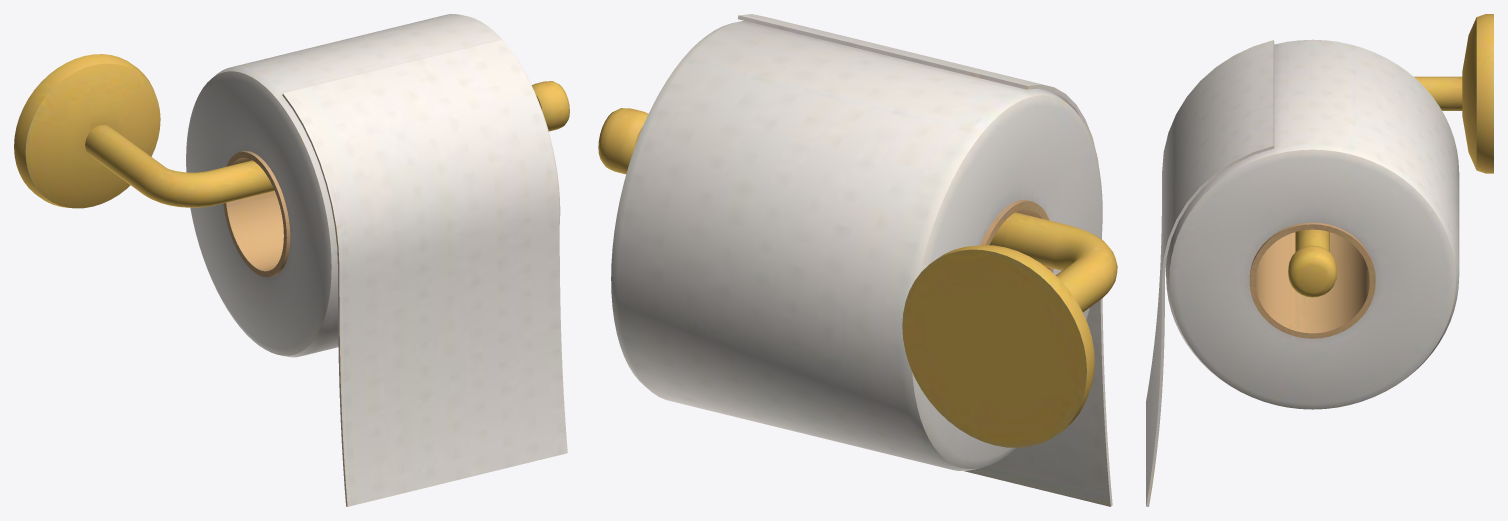
File: toilet-paper-holder.glb
The picture shows the model from 3 angles, left to right: view 1: azimuth 30°, elevation 25°; view 2: azimuth 150°, elevation 25°; view 3: azimuth 270°, elevation 25°; orthographic projection. The views are drawn at different scales.
Visible parts, largest first — view 1: toilet-paper-holder_body; view 2: toilet-paper-holder_body; view 3: toilet-paper-holder_body.
Boxes of the visible parts, x1,y1,x2,y2 form: toilet-paper-holder_body: (14, 14, 569, 506); toilet-paper-holder_body: (598, 14, 1117, 506); toilet-paper-holder_body: (1146, 14, 1493, 506).
Size of the model in its own units: 0.1948 by 0.15 by 0.1305.
1 material, 1 textured.
